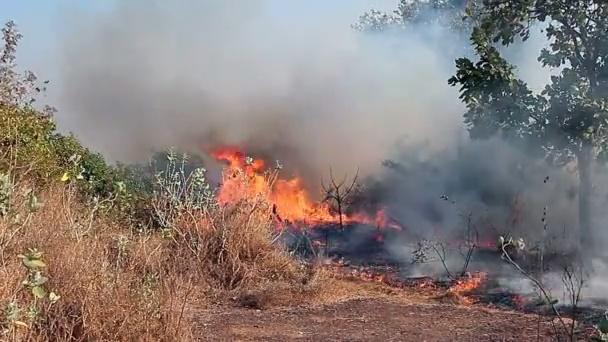fire: (272, 177, 309, 218), (312, 203, 331, 220), (453, 276, 478, 287), (223, 153, 239, 166), (61, 173, 67, 181)
